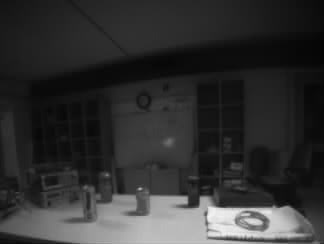Tin can: (82, 185, 97, 221), (186, 176, 199, 208), (136, 187, 149, 214), (99, 172, 111, 201)
